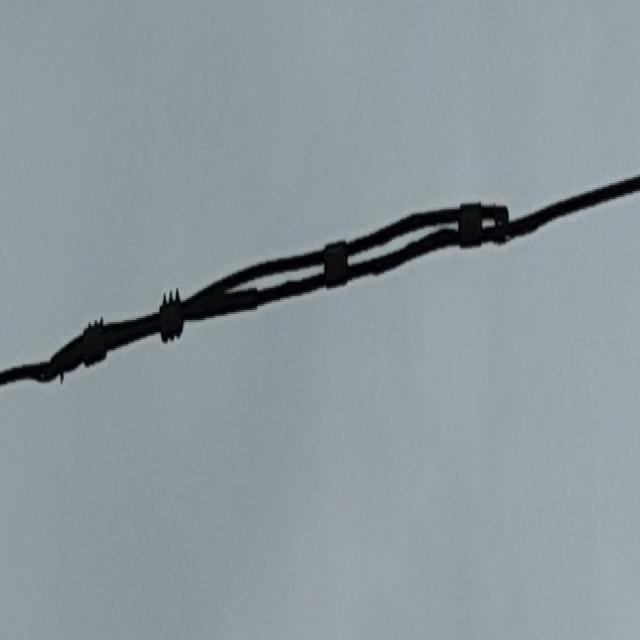wire: (38, 178, 531, 411)
